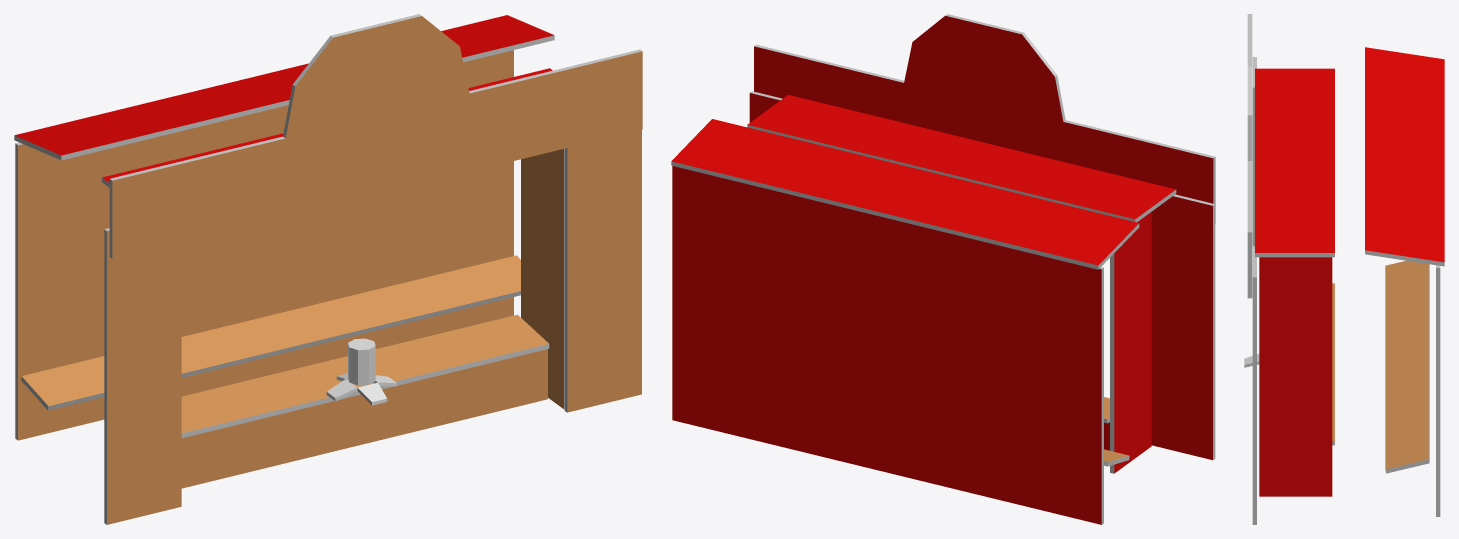
Rendered from theater.fbx.
3 views of the same model, side by side, from view 1: azimuth 30°, elevation 25°; view 2: azimuth 150°, elevation 25°; view 3: azimuth 270°, elevation 25° (orthographic). The views are drawn at different scales.
Parts seen in each view (by area): view 1: Plane.001, Plane; view 2: Plane.001; view 3: Plane.001.
Part boxes in pixels (x1=…): Plane.001: x1=14, y1=14, x2=642, y2=524; Plane: x1=326, y1=338, x2=396, y2=405; Plane.001: x1=671, y1=14, x2=1215, y2=524; Plane.001: x1=1247, y1=14, x2=1444, y2=524.
Size of the model in its own units: 976 by 376 by 759.
